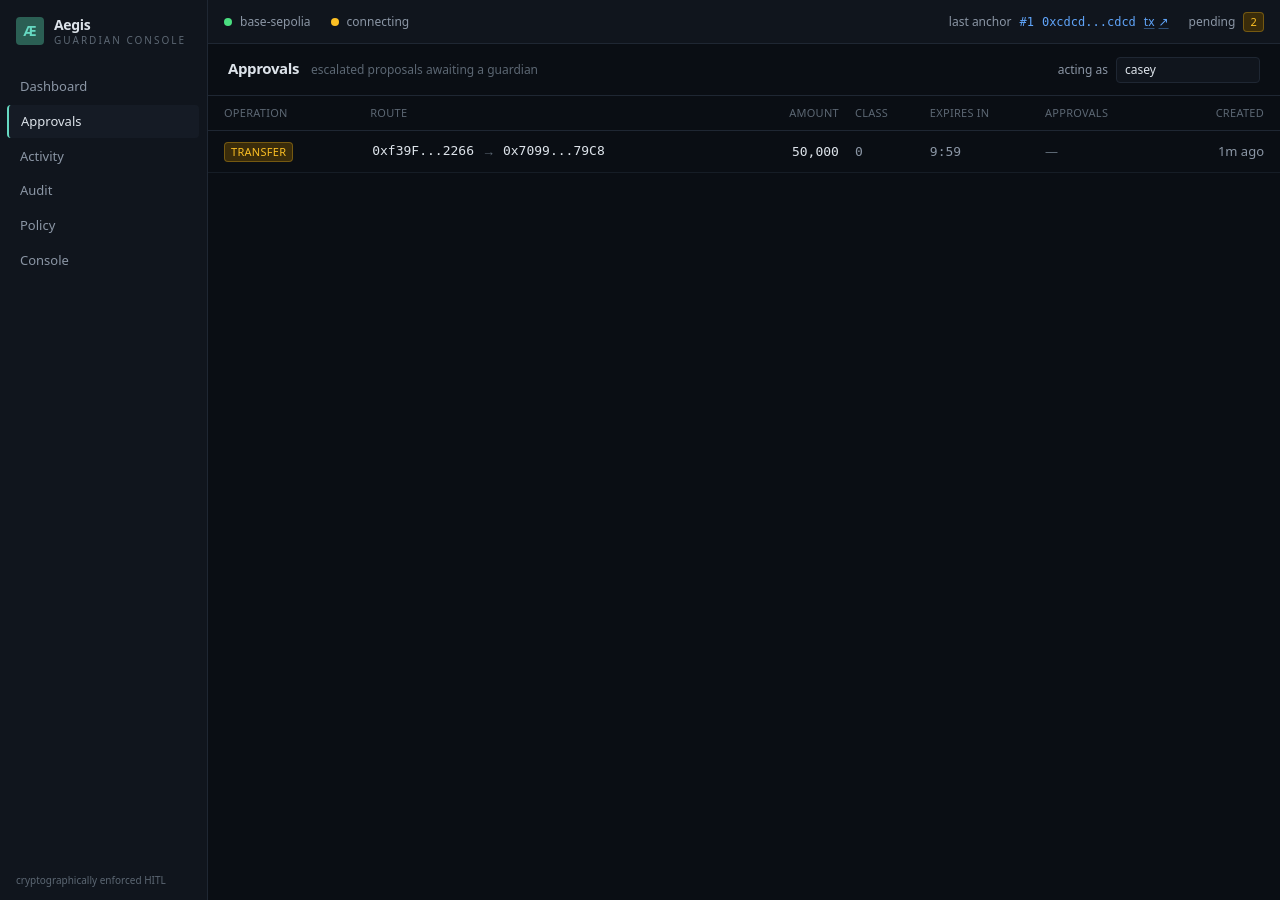
Test: ApprovalsPage › rolls the row back and surfaces the error when approval fails
Click the row with test id "proposal-dec-1" at (744, 152), box [208,130,1279,173]
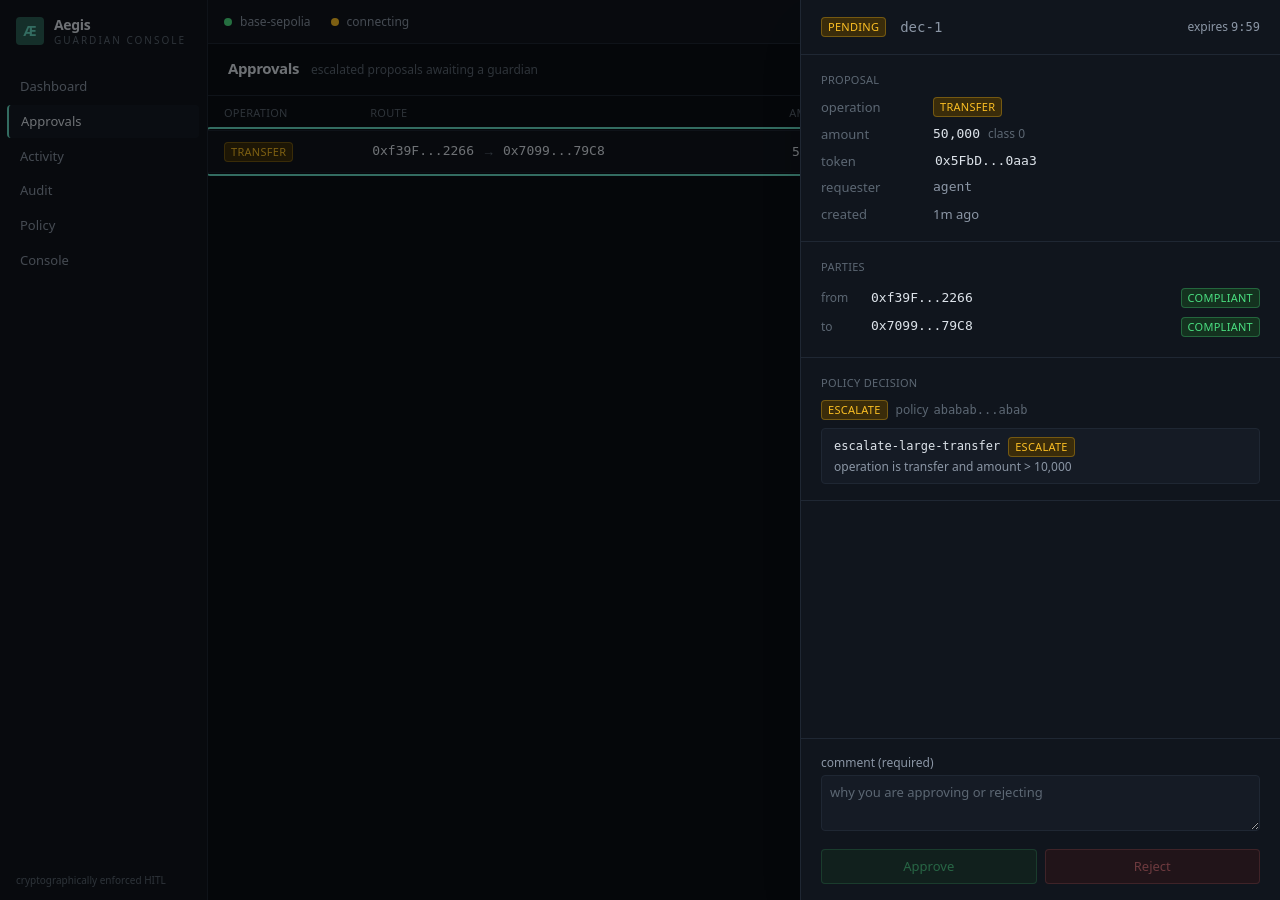
Type "too late" into the text box labelled "comment (required)" at (1040, 803), box [821,775,1260,831]
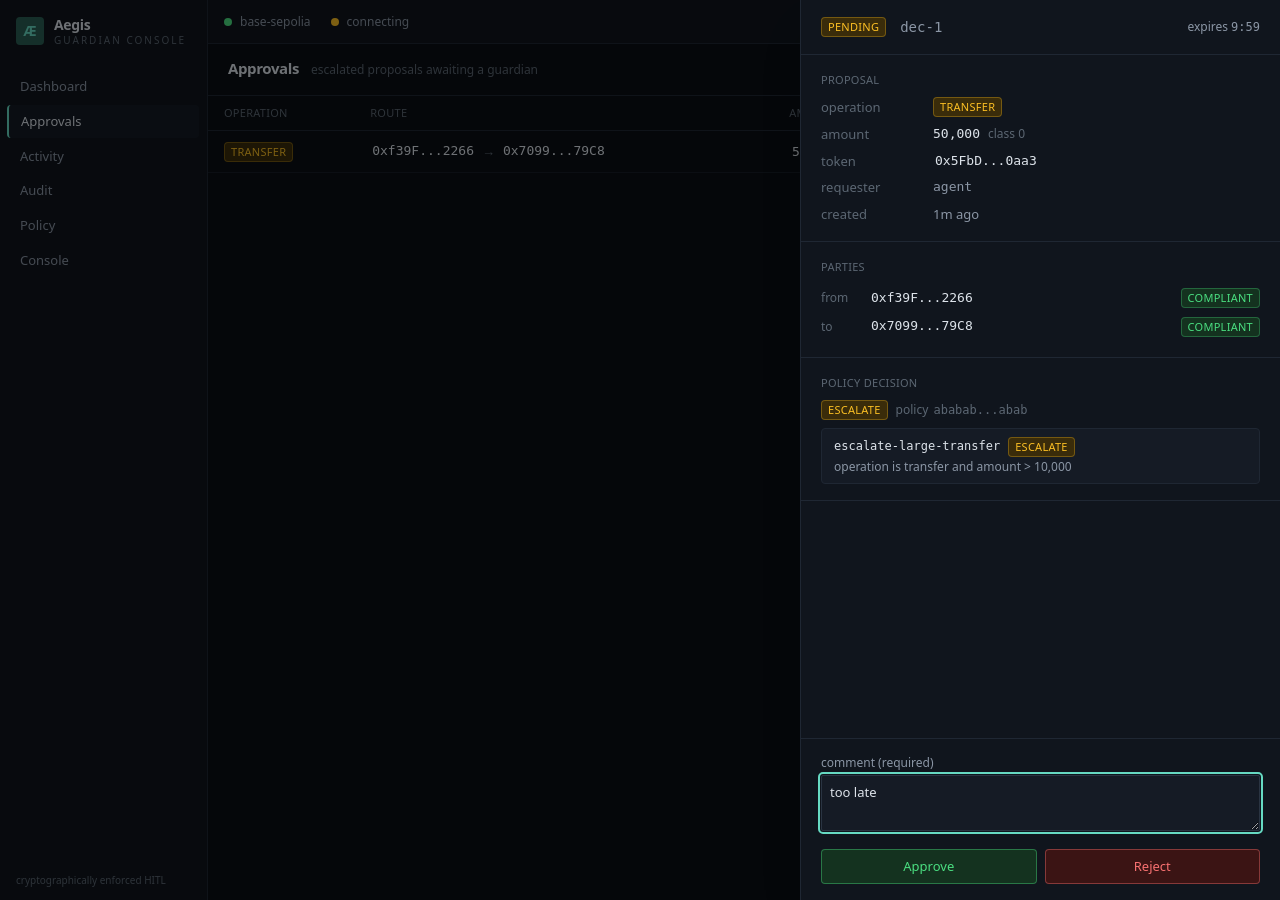
Click the button "Approve" at (929, 867), box [821,849,1036,884]
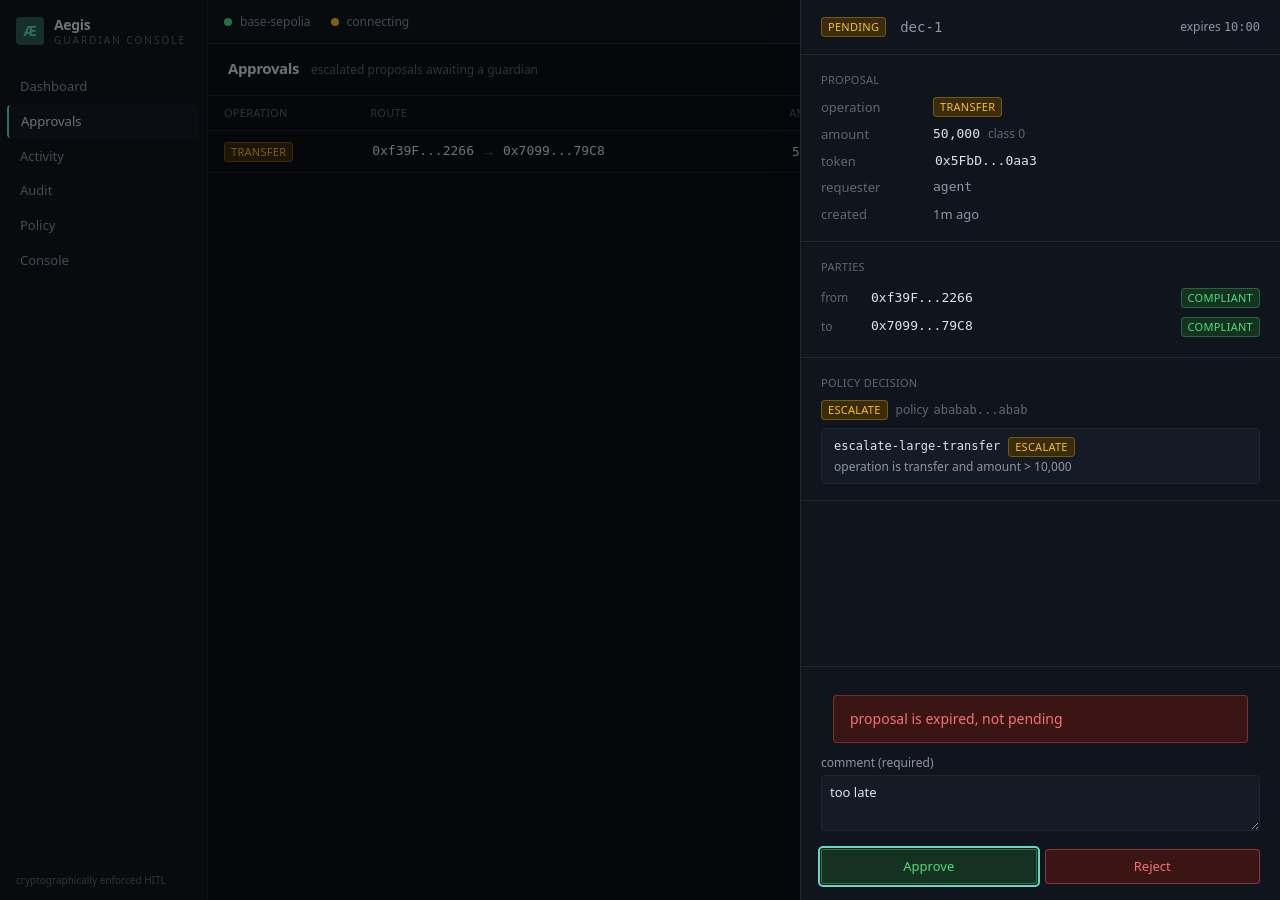
Expected: the row with test id "proposal-dec-1" is shown, [208,130,1279,173]
Result: the text "proposal is expired, not pending" is shown at [850,709,1062,728]
